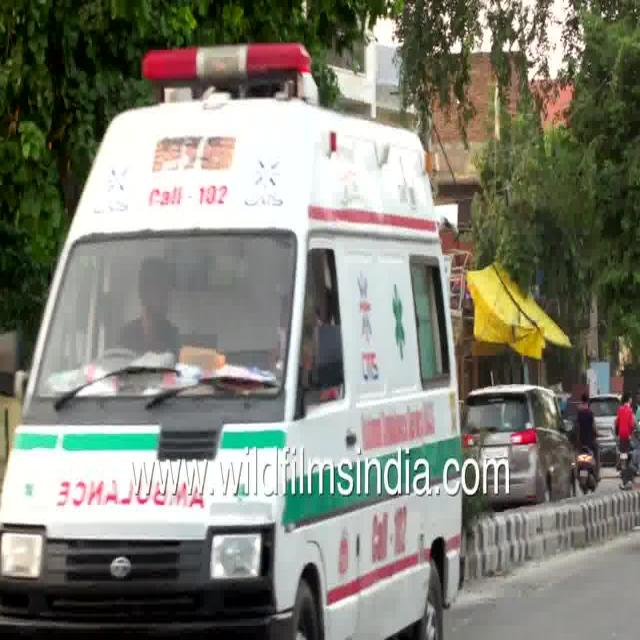ambulance: (0, 4, 498, 446)
